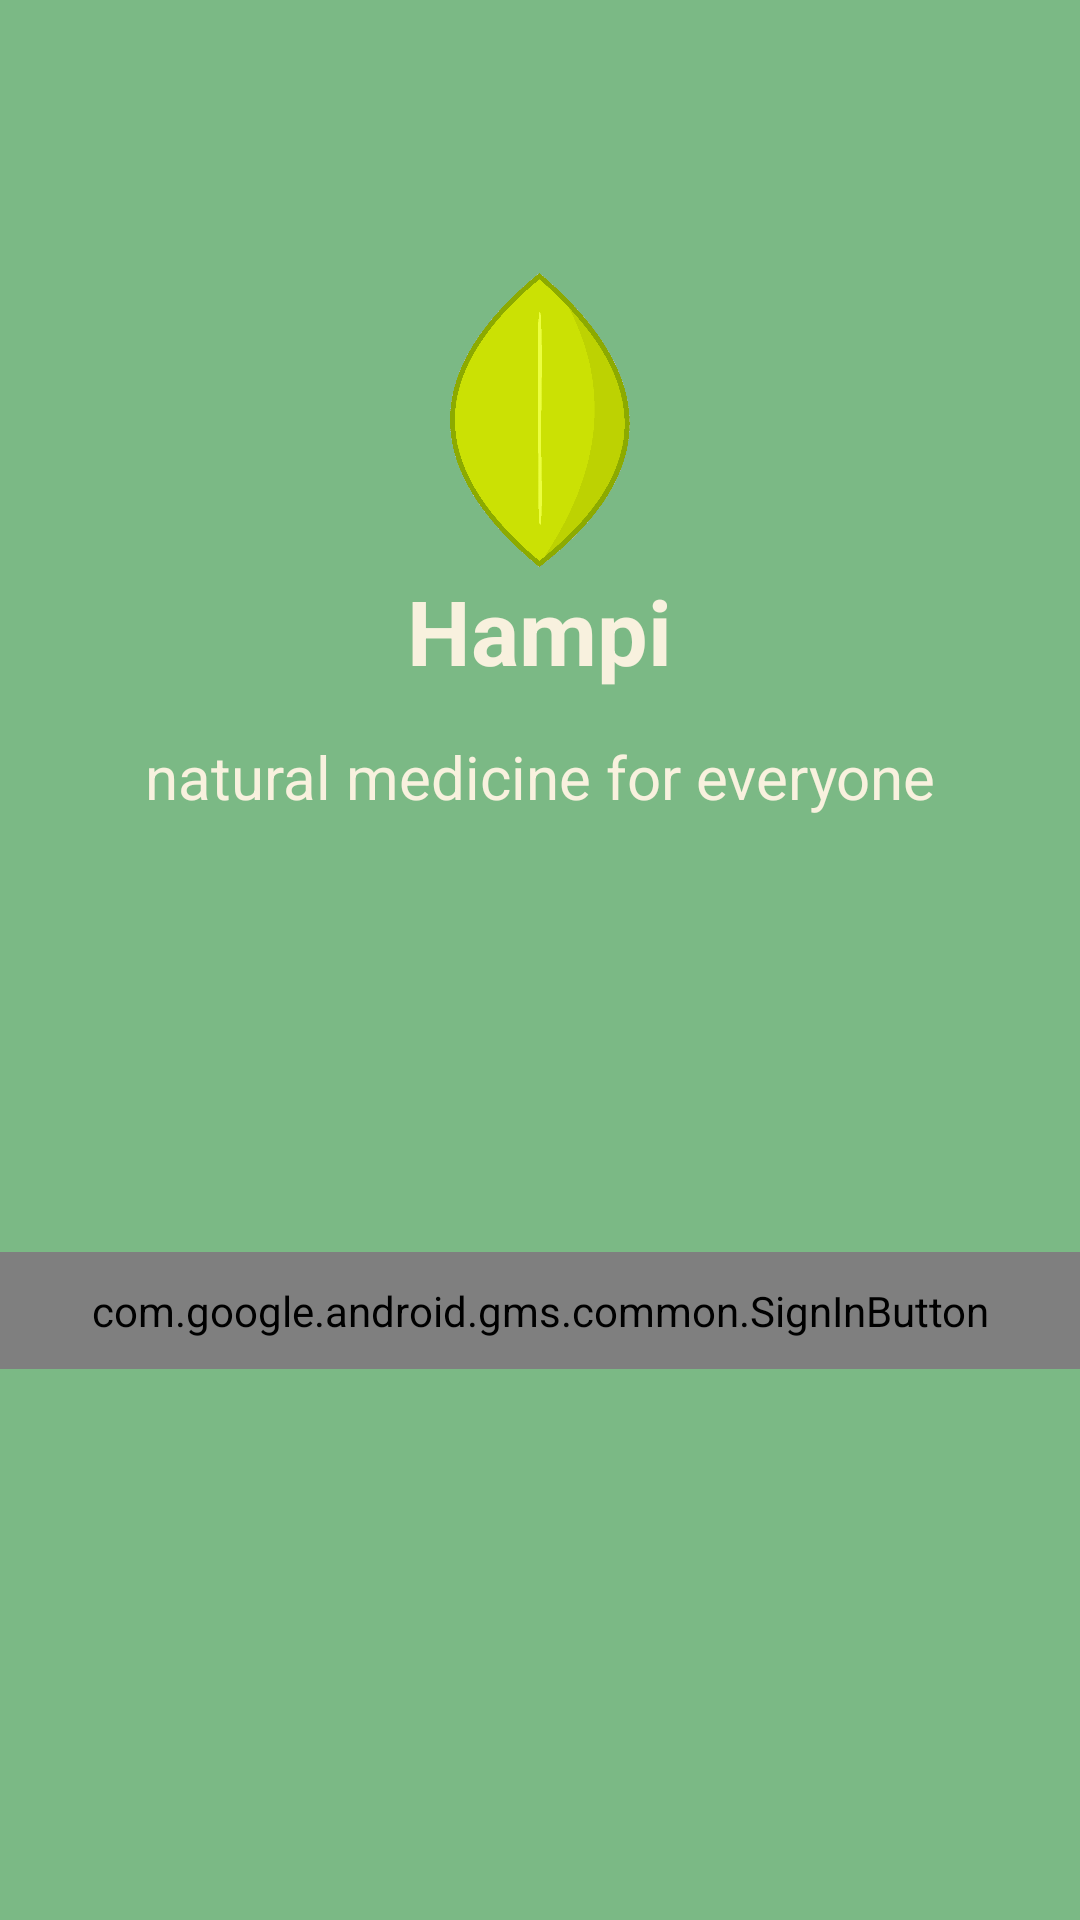

Locate icon controls on the screen. Image size 1080×1920, boxes as [x1,y1,x2,y2].
application icon: [450,273,630,567]
